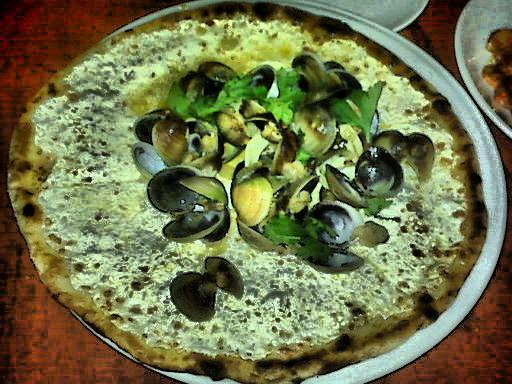pizza: (10, 8, 512, 363)
